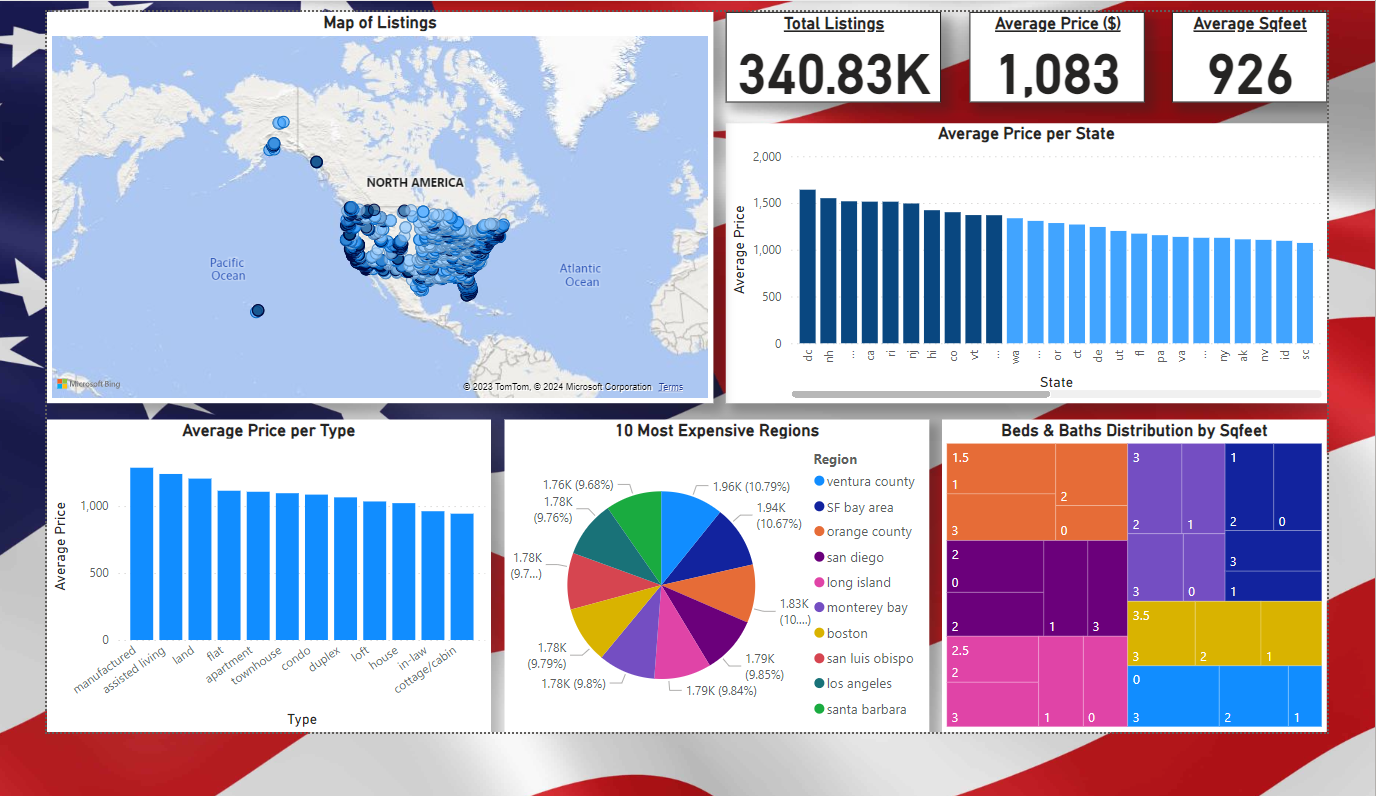

The page's visual inventory and layout, read from the dashboard file:
{"tool":"powerbi","page":{"name":"Page 1","canvas":[1280,720],"ordinal":0},"visuals":[{"type":"columnChart","title":"Average Price per State","fields":{"Category":["Location Dim.State"],"Y":["Measures.AVG_PRICE"]},"box":[678.8,111.2,601.2,280],"z":0},{"type":"map","title":"Map of Listings","fields":{"Y":["Location Dim.Lat"],"X":["Location Dim.Long"]},"box":[0,0,661.2,391.2],"z":1000},{"type":"card","title":"Average Price ($)","fields":{"Values":["Measures.AVG_PRICE"]},"box":[922.5,0,175,90],"z":2000},{"type":"card","title":"Total Listings","fields":{"Values":["Listings Fact.Listings Fact Count"]},"box":[678.8,0,215,90],"z":3000},{"type":"card","title":"Average Sqfeet","fields":{"Values":["Measures.AVG_SQFEET"]},"box":[1125,0,155,90],"z":4000},{"type":"columnChart","title":"Average Price per Type","fields":{"Category":["Property Dim.Type"],"Y":["Measures.AVG_PRICE"]},"box":[0,407.5,432.5,312.5],"z":5000},{"type":"pieChart","title":"10 Most Expensive Regions","fields":{"Category":["Location Dim.Region"],"Y":["Measures.AVG_PRICE"]},"box":[457.5,407.5,407.5,312.5],"z":6000},{"type":"treemap","title":"Beds & Baths Distribution by Sqfeet","fields":{"Group":["Property Dim.Baths"],"Details":["Property Dim.Beds"],"Values":["Measures.AVG_SQFEET"]},"box":[893.8,407.5,386.2,312.5],"z":6001}]}

Visuals, with their boxes in screenshot pixels (x1, y1, x2, y2), scaled from the page's 1280x720 canvas onto the 1376x796 screenshot:
"Average Price per State" columnChart: bbox(730, 123, 1375, 432)
"Map of Listings" map: bbox(0, 0, 711, 432)
"Average Price ($)" card: bbox(992, 0, 1180, 100)
"Total Listings" card: bbox(730, 0, 961, 100)
"Average Sqfeet" card: bbox(1209, 0, 1375, 100)
"Average Price per Type" columnChart: bbox(0, 451, 465, 795)
"10 Most Expensive Regions" pieChart: bbox(492, 451, 930, 795)
"Beds & Baths Distribution by Sqfeet" treemap: bbox(961, 451, 1375, 795)
